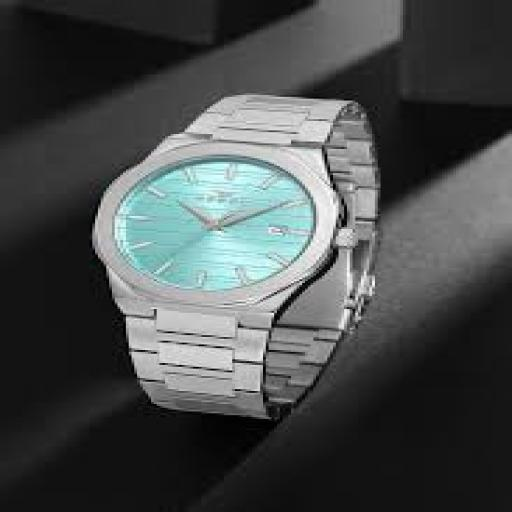KolSaati: (25, 44, 436, 466)
